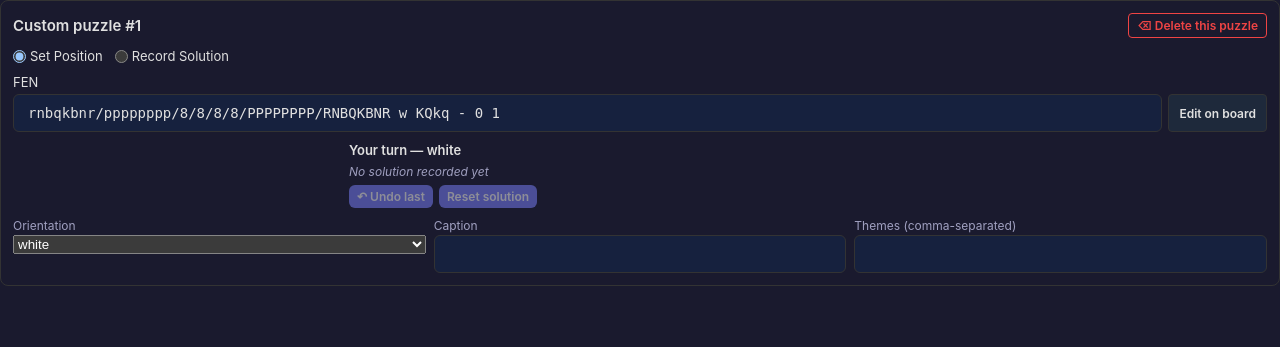
Scenario: <CustomPuzzleField> › переключение Set Position / Record Solution
Click the radio button with test id "editor-custom-puzzle-0-mode-record". click: (121, 56)
box: [115,50,128,62]
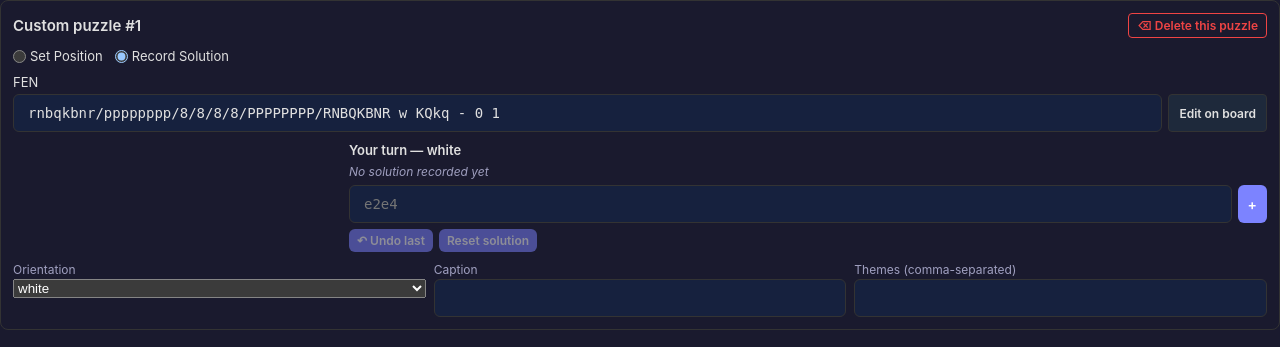
Expected: the field with test id "editor-custom-puzzle-0-uci-input" is shown, [349,185,1232,223]
Click the radio button with test id "editor-custom-puzzle-0-mode-set". click: (20, 56)
box: [13,50,26,62]
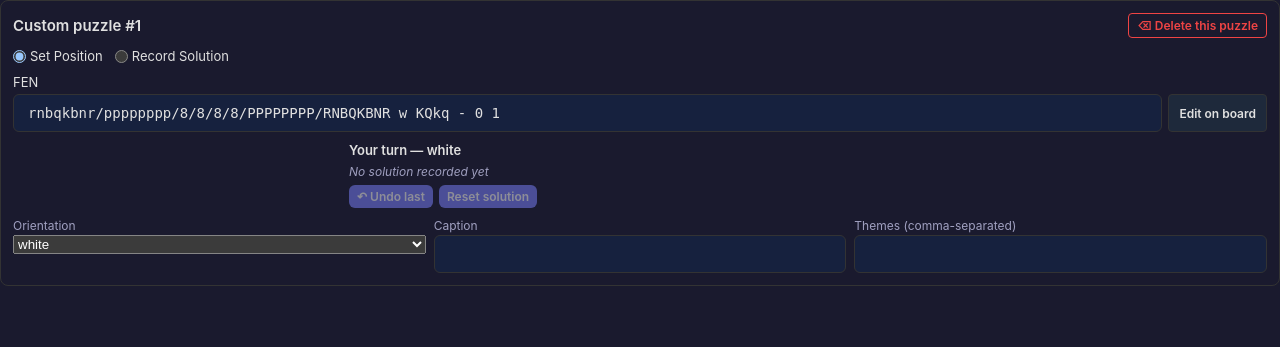
Expected: the field with test id "editor-custom-puzzle-0-uci-input" is gone
